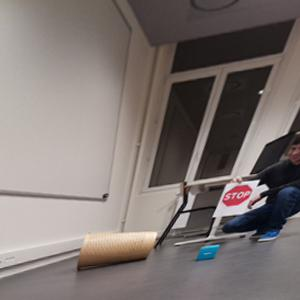stop: (223, 184, 252, 207)
